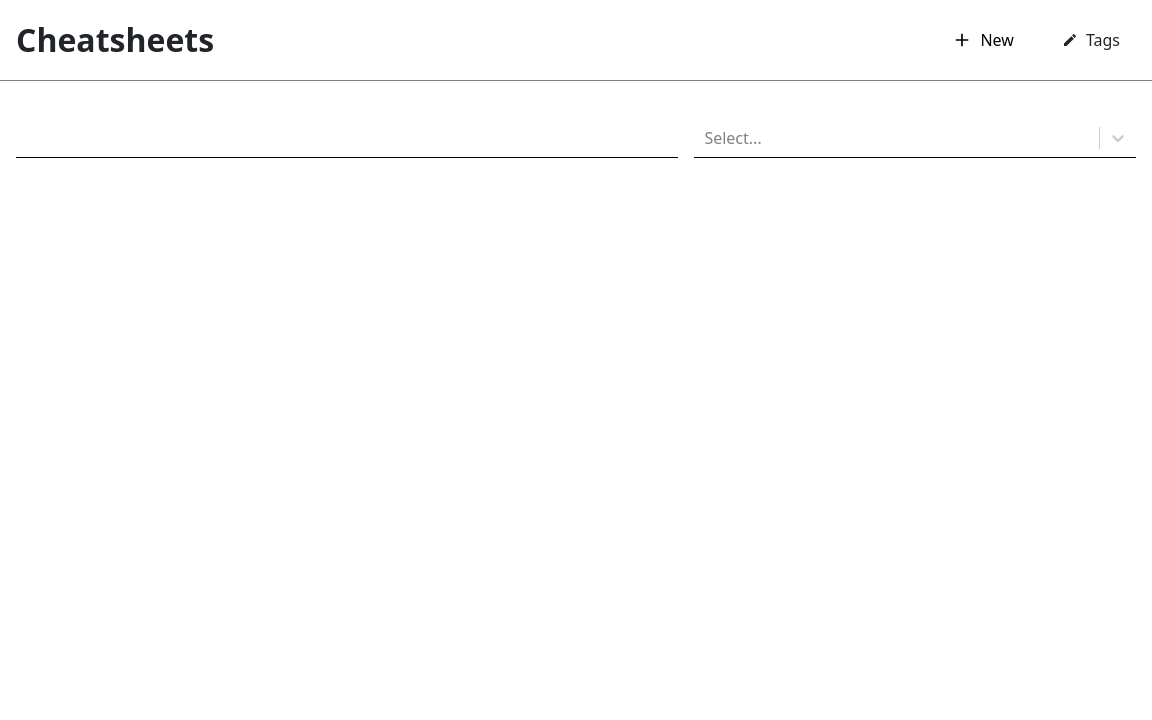
it: New › Create New Note, save
This screenshot has width=1152, height=720.
Click the element with class "navbar-item" showing "New" at {"x": 983, "y": 40}, box [952, 29, 1014, 51]
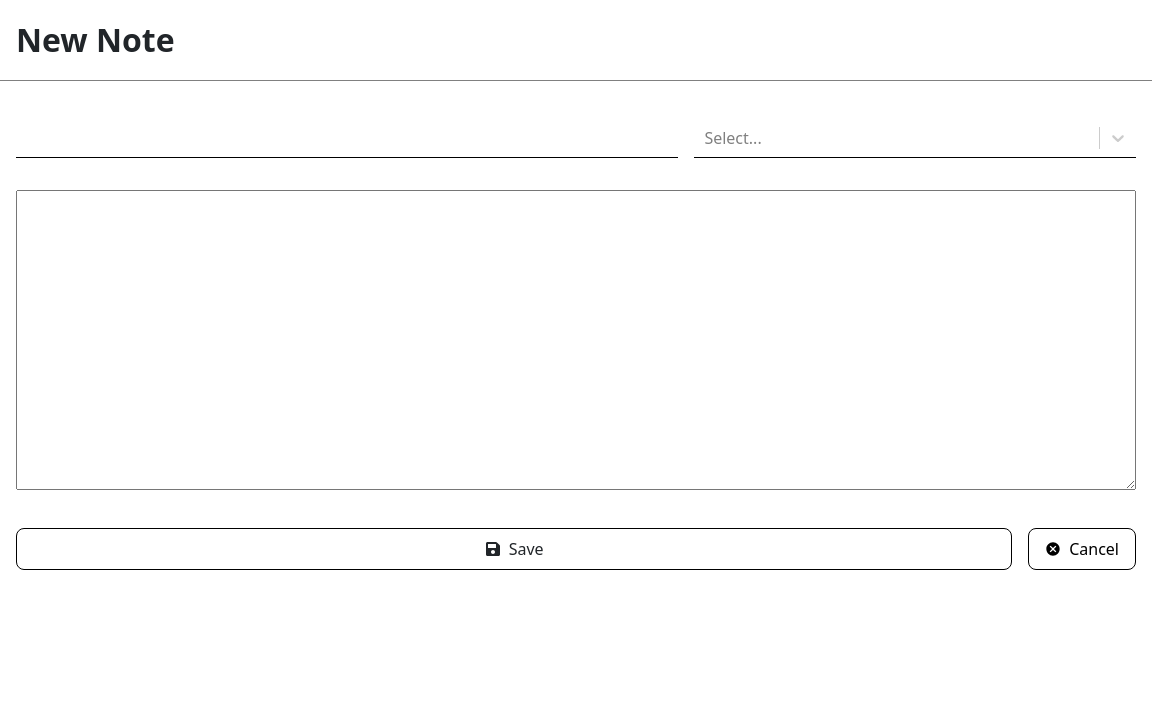
Expected: the text "New Note" is shown, [16, 16, 175, 64]
Type "title 1" into the field with class "title-input" at {"x": 347, "y": 128}, box [16, 97, 678, 158]
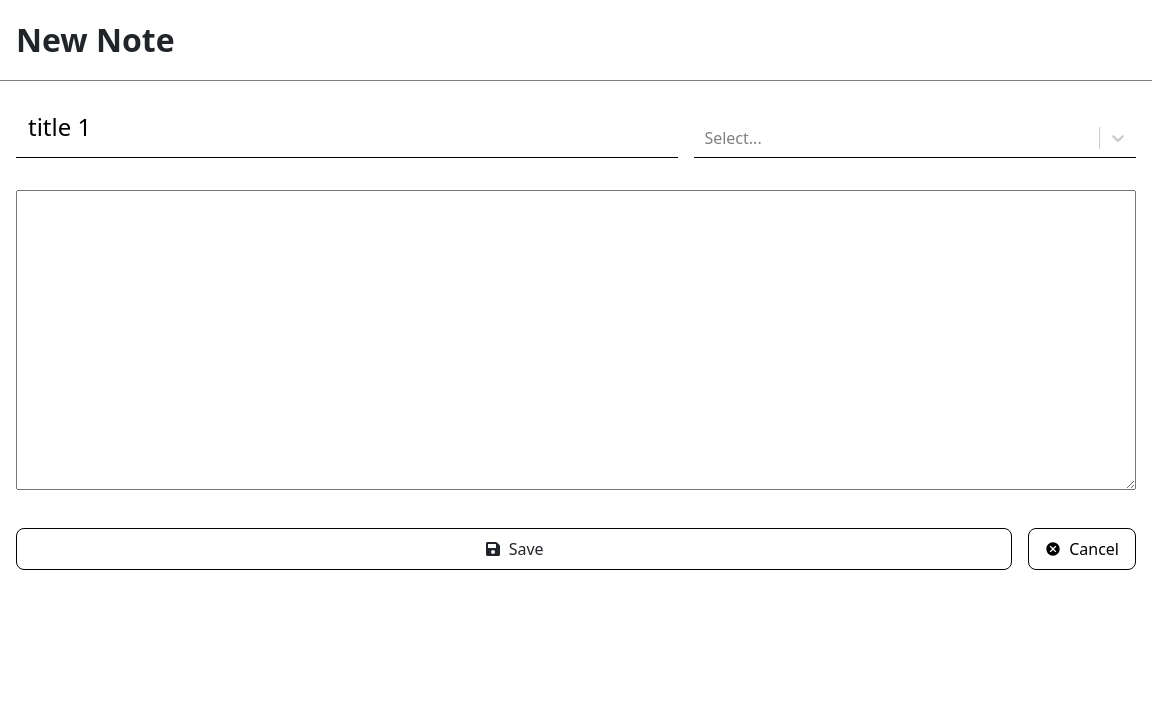
Type "markdown 1" into the text box with class "markdown-input" at {"x": 576, "y": 340}, box [16, 190, 1136, 490]
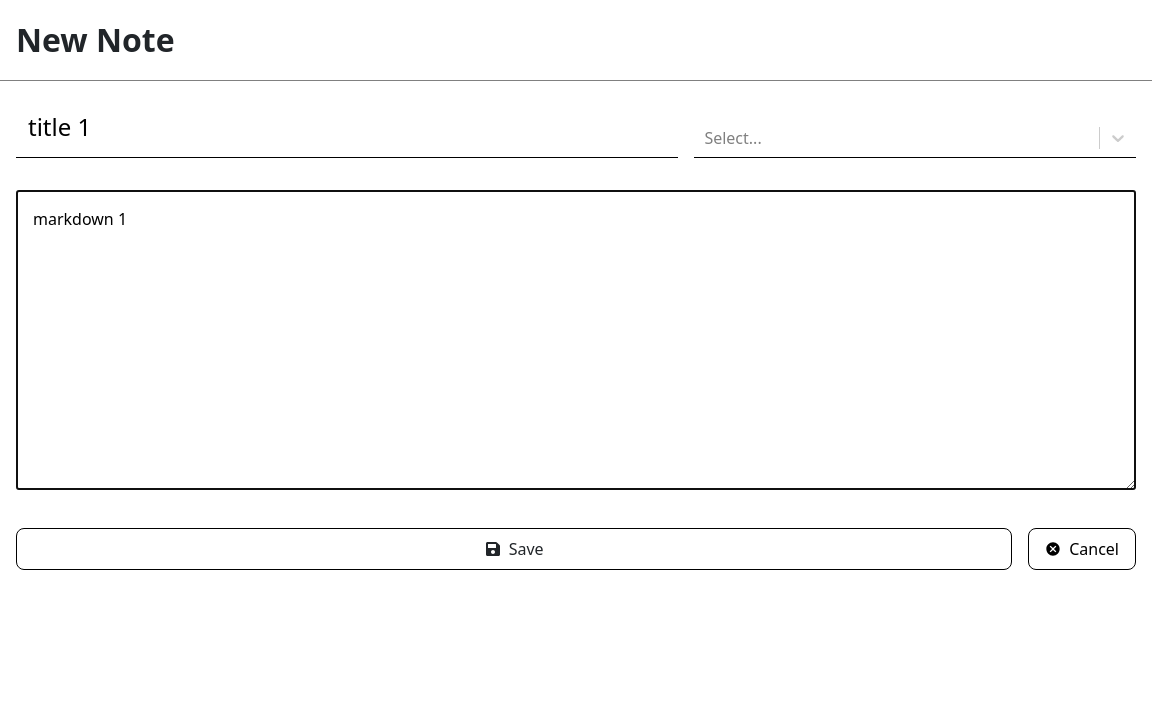
Click the button with class "save-btn" at {"x": 514, "y": 549}, box [16, 528, 1012, 570]
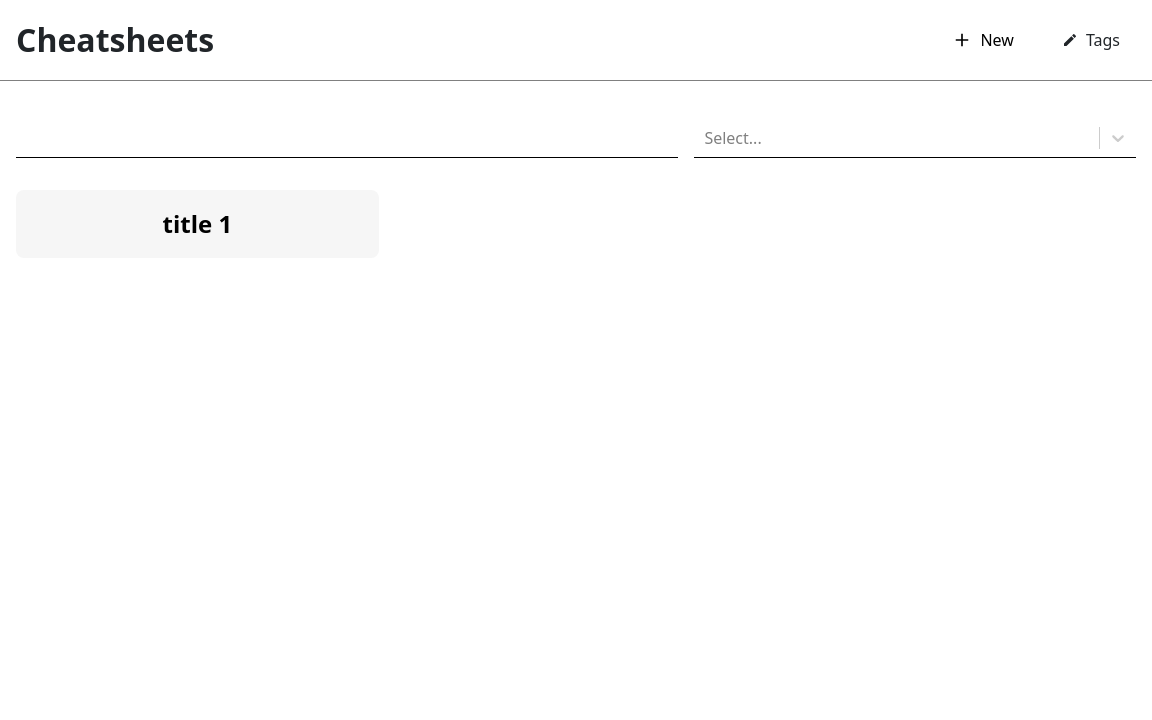
Result: the number of elements with class "note-item" is 1 at [16, 190, 379, 258]
